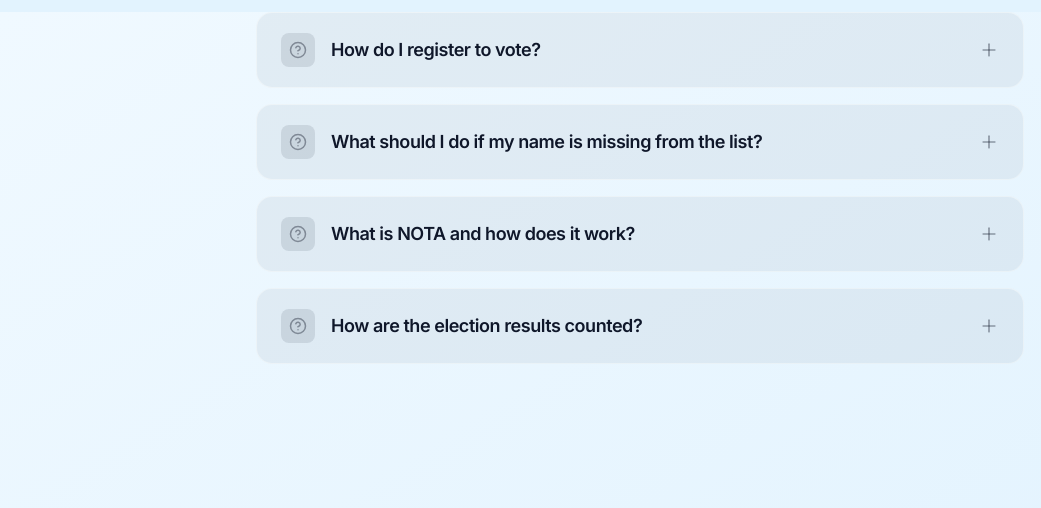
Test case: FAQ Component › Accordion Interaction › closes the previously open FAQ when another is clicked
Open first FAQ
Click the button "How do I register to vote?".
click(298, 50)  # box [257,13,1023,87]
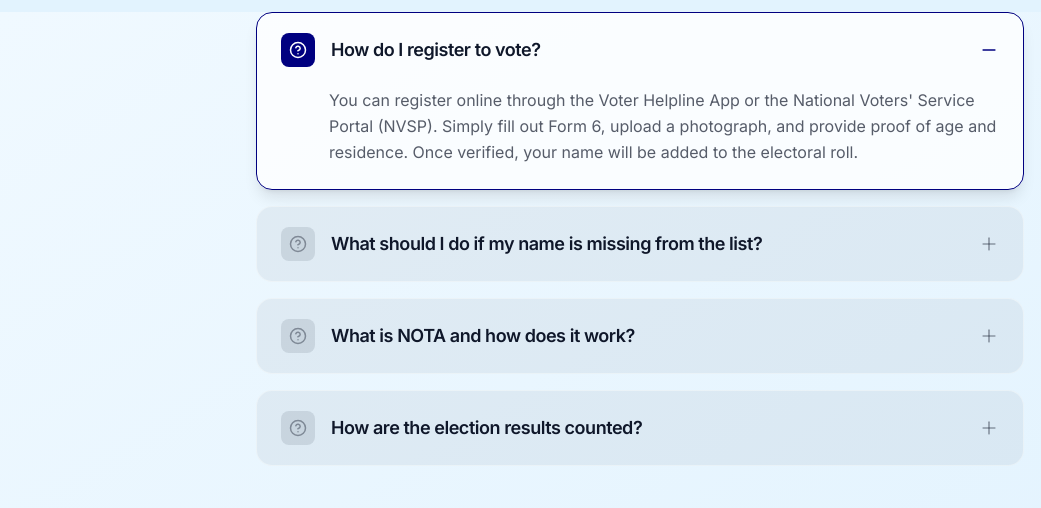
Expected: the text "You can register online through the Voter Helpline App" is shown, [329,90,996,162]
Open second FAQ — first should close
Click the button "What should I do if my name is missing from the list?".
click(640, 244)  # box [257,207,1023,281]
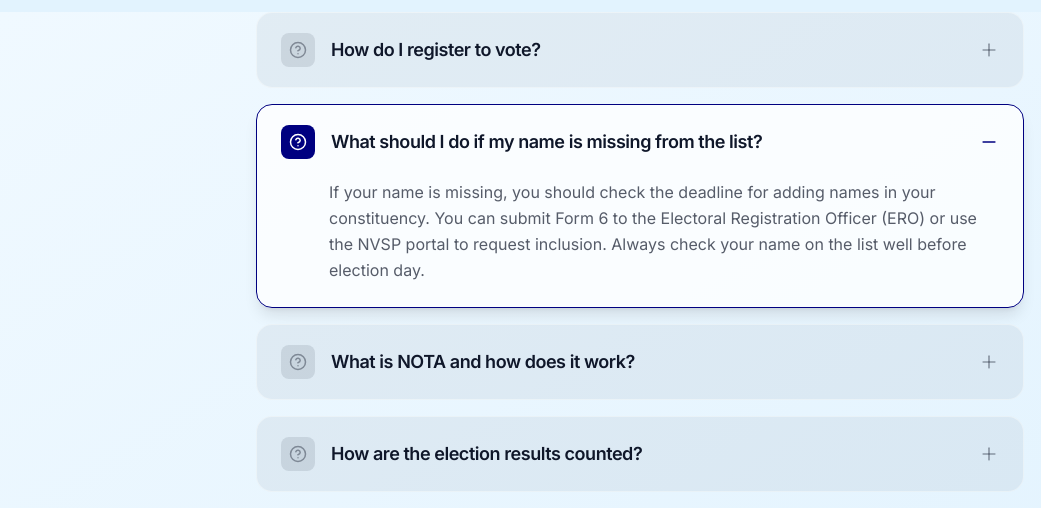
Expected: the text "You can register online through the Voter Helpline App" is gone
Expected: the text "Electoral Registration Officer" is shown, [329,182,977,280]
